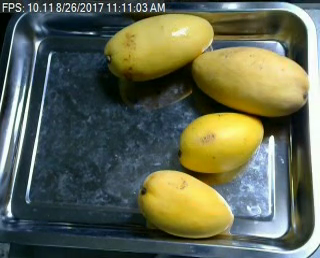Mango: (97, 10, 217, 79), (194, 46, 310, 115), (139, 164, 236, 244), (173, 108, 270, 176)
